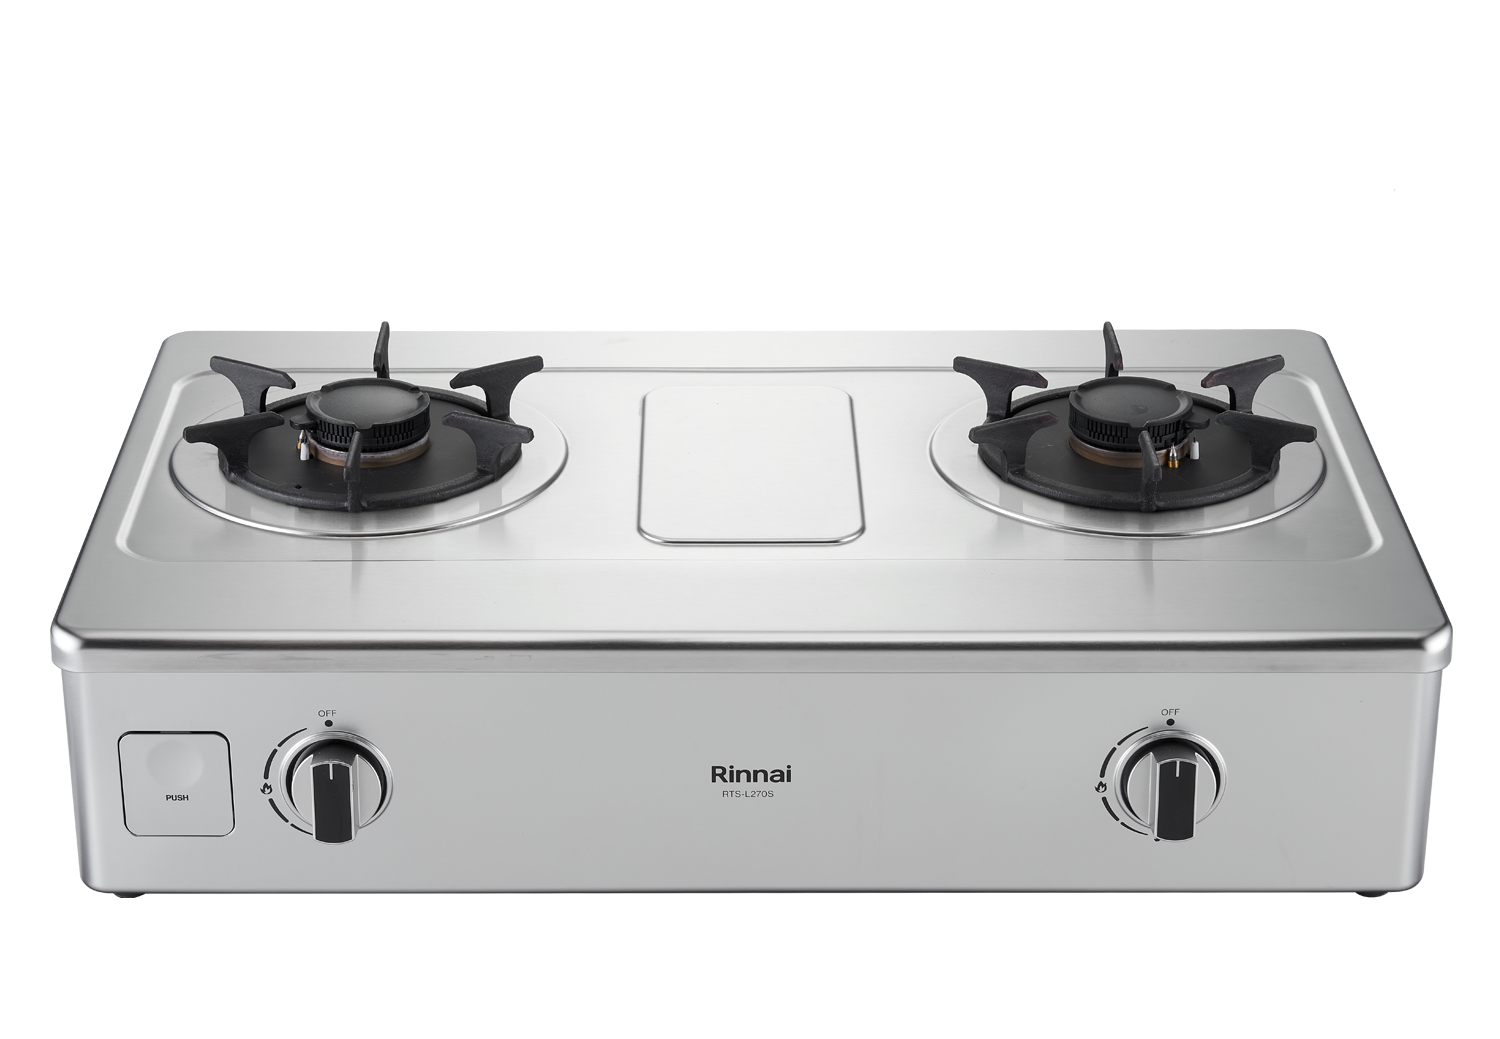gasoven: (48, 317, 1443, 907)
